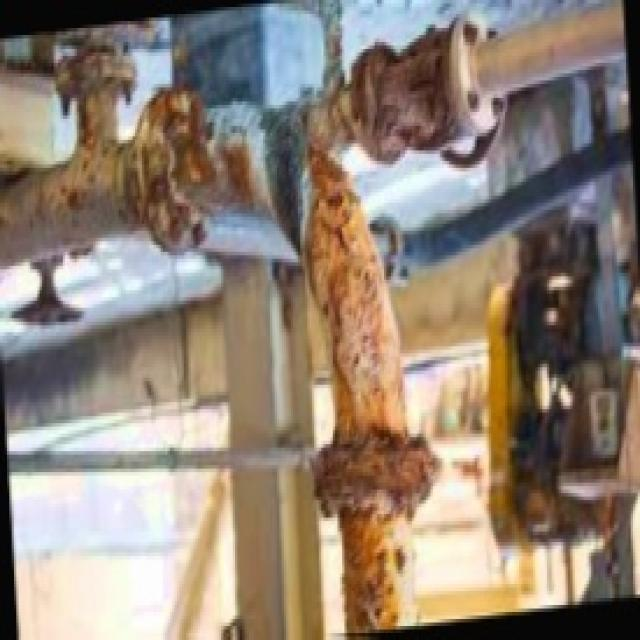rust: (316, 231, 416, 636), (64, 114, 211, 250), (353, 47, 485, 149)
